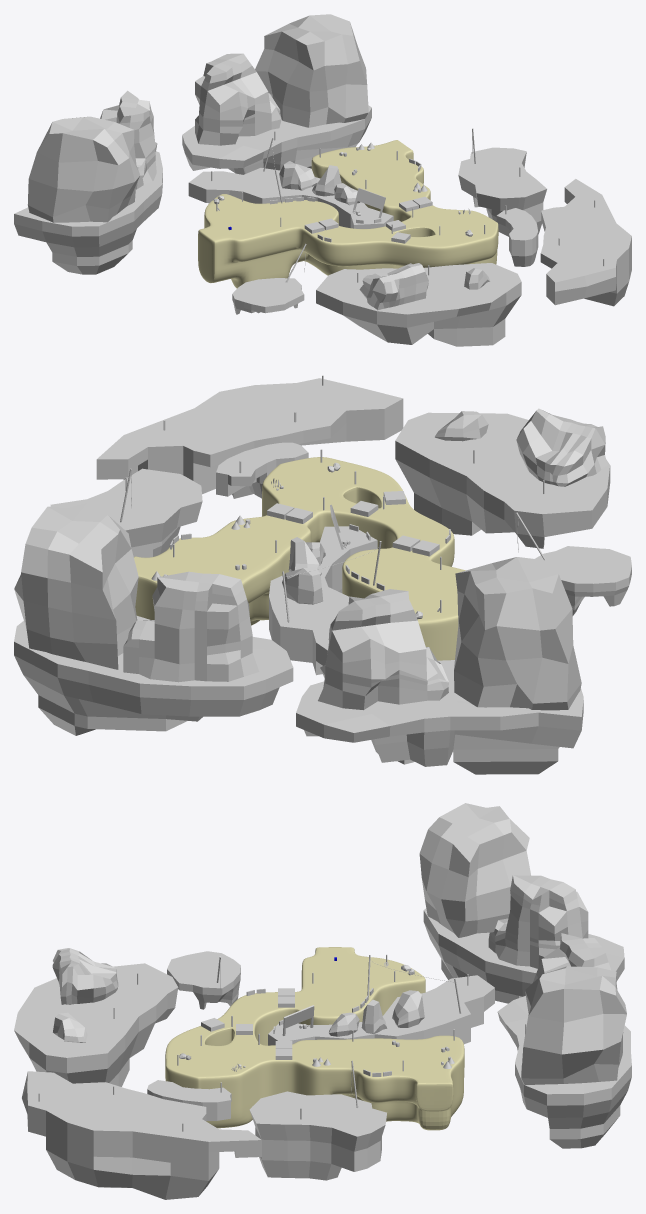
Rendered from Sala2.fbx.
3 views of the same model, one above another, from view 1: azimuth 30°, elevation 25°; view 2: azimuth 150°, elevation 25°; view 3: azimuth 270°, elevation 25° (orthographic). The views are drawn at different scales.
Visible parts, largest first — view 1: Base 1-2, Cube.016, Roca 2, Roca 2.001, Cube.019, Cube.022, Cube.017, Roca.002, Cube.021, Cube.015, Roca.001, Roca 3 (+4 smaller); view 2: Base 1-2, Cube.019, Cube.016, Roca 2.001, Cube.022, Roca 2, Cube.017, Roca.002, Roca.001, Cube.021, Cube.015, Roca 3 (+5 smaller); view 3: Base 1-2, Cube.019, Cube.016, Roca 2.001, Roca 2, Cube.021, Cube.017, Roca.001, Cube.015, Cube.022, Cube.020, Roca 3 (+6 smaller).
Boxes of the visible parts, x1,y1,x2,y2 form: Base 1-2: (198, 140, 498, 288); Cube.016: (316, 263, 521, 346); Roca 2: (255, 14, 368, 127); Roca 2.001: (27, 116, 139, 222); Cube.019: (540, 179, 631, 306); Cube.022: (14, 151, 162, 274); Cube.017: (182, 105, 371, 174); Roca.002: (195, 53, 281, 145); Cube.021: (458, 147, 546, 236); Cube.015: (188, 168, 393, 228); Roca.001: (100, 90, 157, 189); Roca 3: (359, 263, 428, 310); Base 1-2: (134, 457, 465, 660); Cube.019: (96, 378, 403, 498); Cube.016: (395, 412, 610, 548); Roca 2.001: (454, 557, 581, 710); Cube.022: (296, 660, 583, 774); Roca 2: (14, 502, 138, 669); Cube.017: (14, 616, 293, 735); Roca.002: (123, 571, 259, 682); Roca.001: (318, 589, 448, 710); Cube.021: (50, 468, 202, 557); Cube.015: (269, 526, 377, 675); Roca 3: (516, 408, 607, 486); Base 1-2: (165, 947, 464, 1130); Cube.019: (22, 1071, 261, 1199); Cube.016: (14, 963, 178, 1086); Roca 2.001: (419, 803, 530, 937); Roca 2: (521, 966, 626, 1084); Cube.021: (249, 1091, 386, 1180); Cube.017: (497, 996, 631, 1148); Roca.001: (488, 875, 588, 968); Cube.015: (268, 975, 494, 1045); Cube.022: (423, 908, 624, 1003); Cube.020: (167, 951, 240, 1009); Roca 3: (52, 948, 118, 1004).
Bounding box in the file's own units: 44838 × 44586 × 13523.
